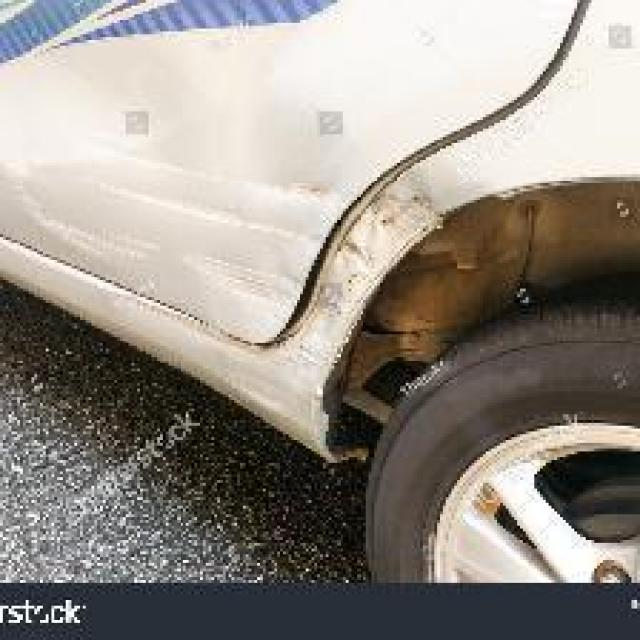damaged: (2, 140, 448, 366)
